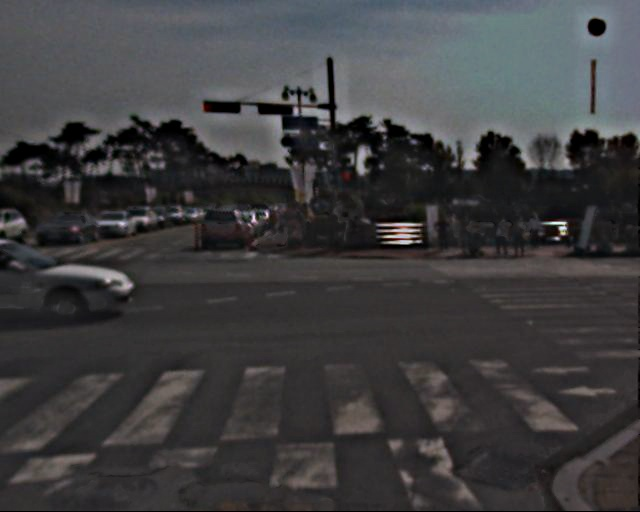person: (273, 204, 315, 247), (511, 213, 531, 262), (328, 205, 348, 253), (493, 213, 512, 259), (467, 210, 485, 255), (527, 208, 545, 252), (449, 208, 466, 249), (436, 212, 452, 250)
